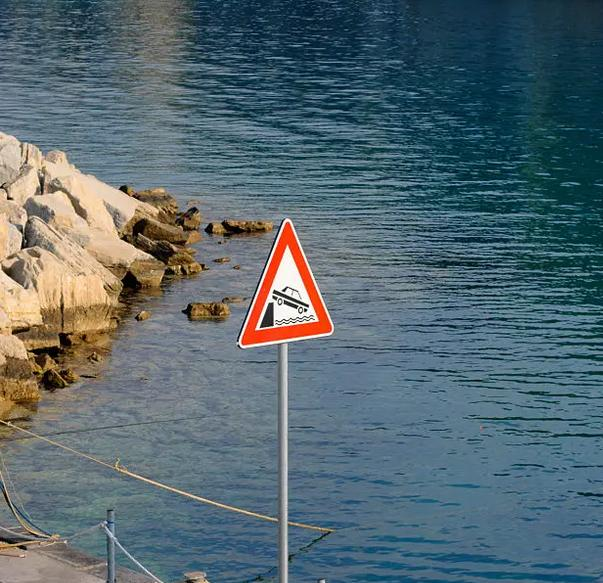road_sign: (237, 217, 336, 346)
